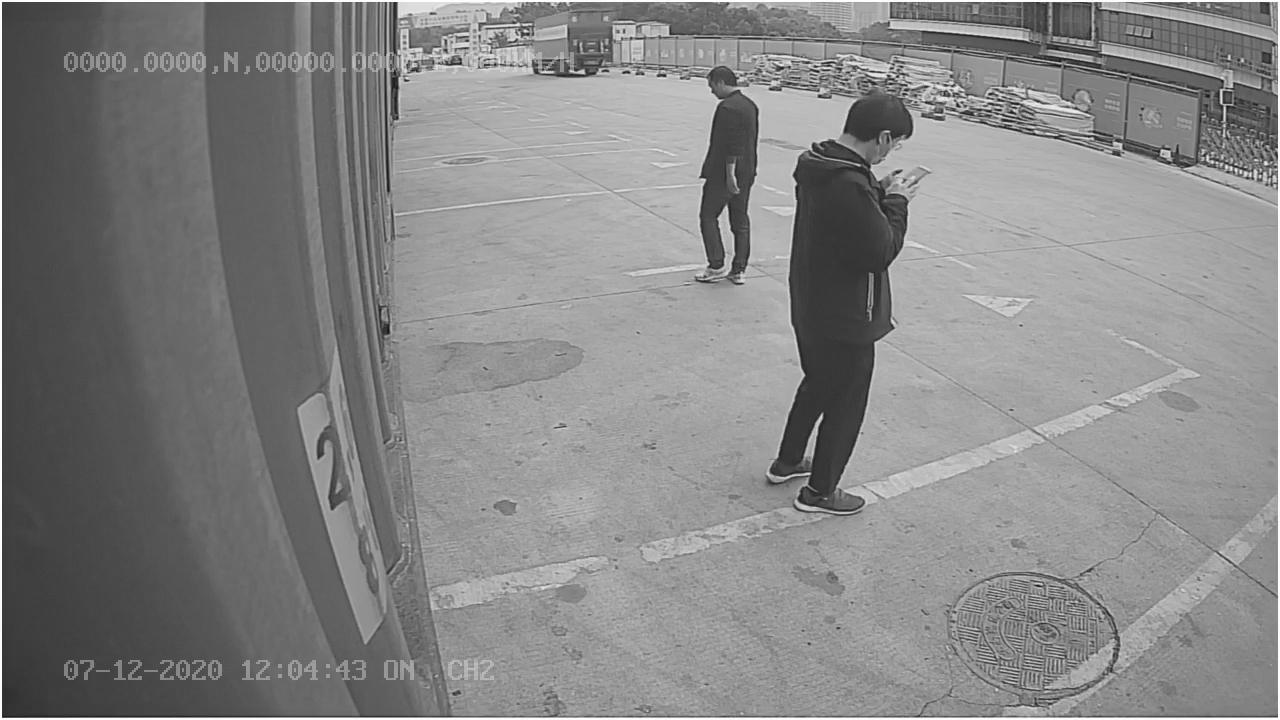person: (765, 84, 919, 513)
